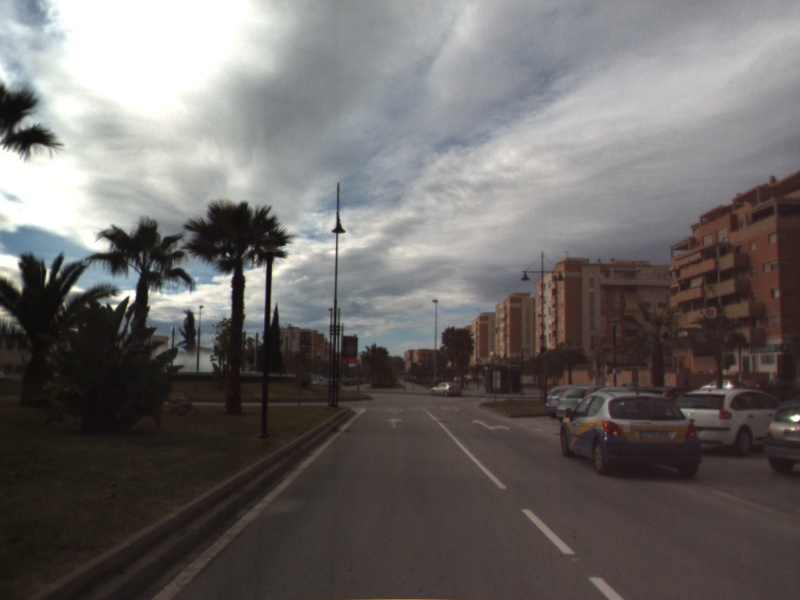STRAIGHT: (384, 415, 405, 430)
STRAIGHT_RIGHT: (470, 417, 512, 432)
